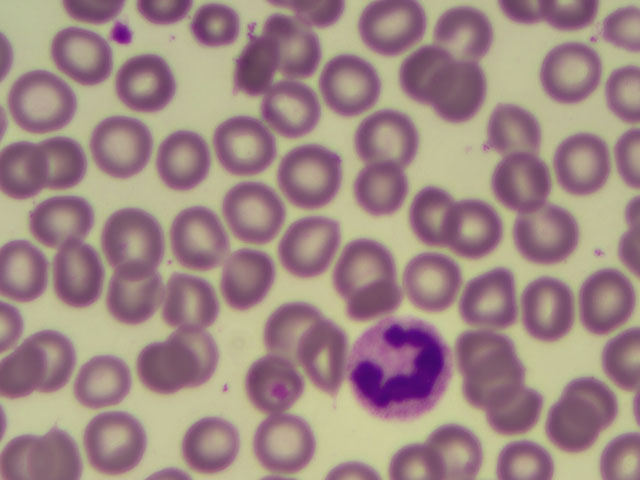Platelets: (106, 17, 137, 50)
RBC: (11, 415, 74, 480), (418, 415, 481, 480), (49, 21, 112, 85), (11, 69, 74, 133), (35, 127, 98, 191), (34, 182, 97, 246), (53, 243, 116, 307), (103, 203, 166, 267), (107, 261, 170, 325), (167, 272, 230, 336), (164, 322, 227, 386), (131, 339, 194, 403), (70, 353, 133, 417), (25, 322, 88, 386), (83, 408, 146, 472), (181, 409, 244, 473), (249, 409, 312, 473), (241, 342, 304, 406), (284, 323, 347, 387), (261, 289, 324, 353), (214, 247, 277, 311), (166, 202, 229, 266), (156, 125, 219, 189), (85, 114, 148, 178), (116, 49, 179, 113), (229, 33, 292, 97), (255, 13, 318, 77), (316, 51, 379, 115), (260, 75, 323, 139), (211, 111, 274, 175), (228, 181, 291, 245), (281, 213, 344, 277), (279, 141, 342, 205), (355, 158, 418, 222), (356, 106, 419, 170), (431, 67, 494, 131), (396, 41, 459, 105), (363, 1, 426, 65), (433, 6, 496, 70), (482, 94, 545, 158), (488, 146, 551, 210), (515, 196, 578, 260), (452, 201, 515, 265), (409, 182, 472, 246), (407, 247, 470, 311), (337, 236, 400, 300), (446, 321, 509, 385), (463, 266, 526, 330), (520, 272, 583, 336), (573, 262, 636, 326), (550, 135, 613, 199), (541, 47, 604, 111), (490, 379, 553, 443), (467, 342, 530, 406), (553, 401, 616, 465), (562, 370, 625, 434), (190, 1, 253, 64), (1, 137, 63, 201), (1, 236, 63, 300), (497, 430, 557, 480)
WBC: (347, 312, 453, 414)
